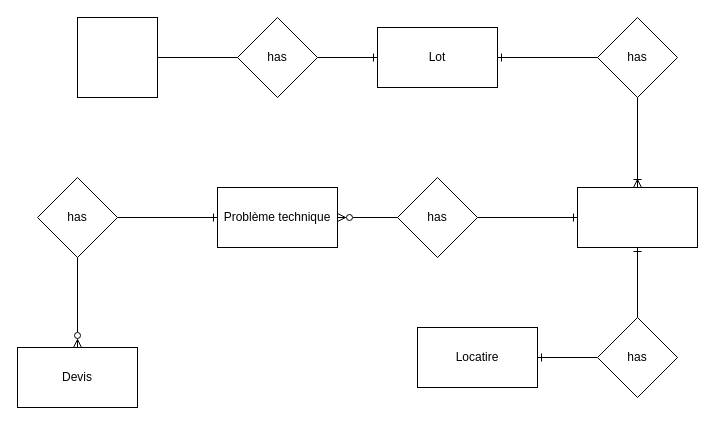
This 715x425 diagram has some shape labels left out. The box of each missing label's shape, as (x1, y1, x2, y2) in pixels:
Appartement: (576, 186, 698, 248)
Propriétaire: (76, 16, 158, 98)
